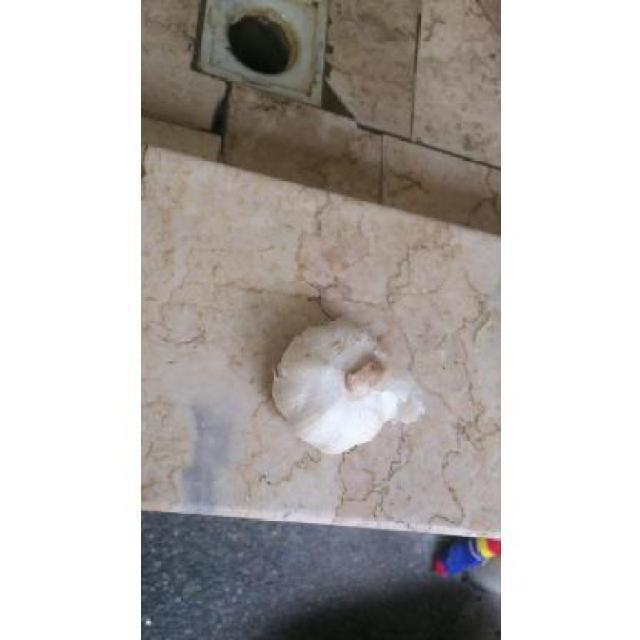garlic: (272, 320, 425, 454)
